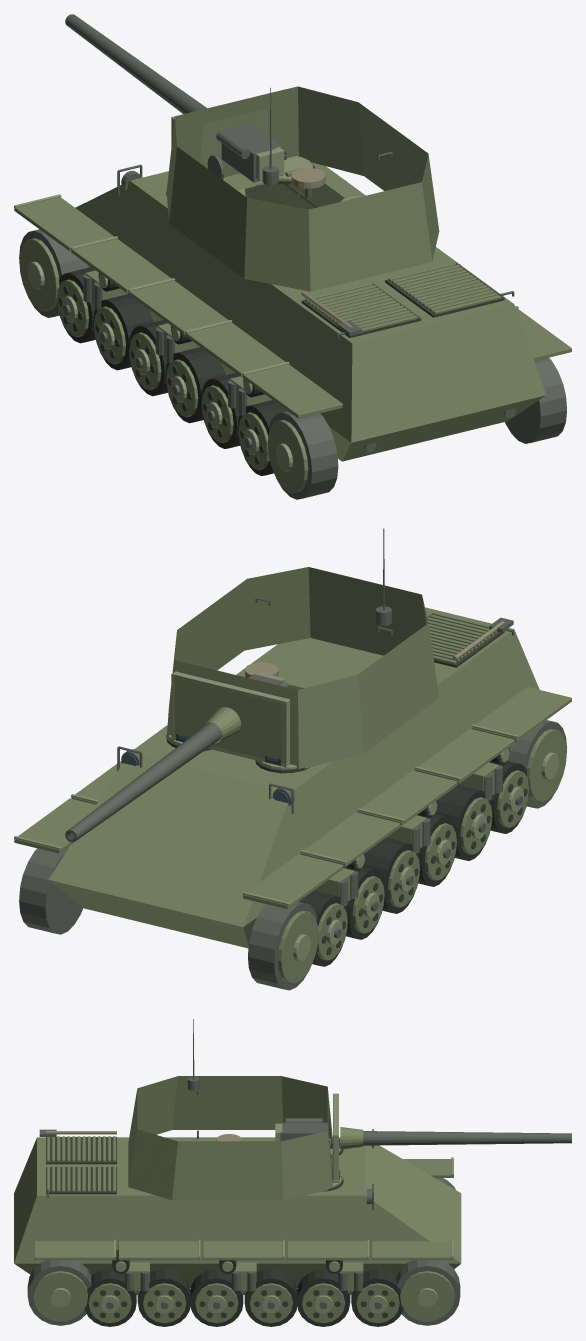
3 views of the same model, one above another, from view 1: azimuth 30°, elevation 25°; view 2: azimuth 150°, elevation 25°; view 3: azimuth 270°, elevation 25° (orthographic). The views are drawn at different scales.
Visible parts, largest first — view 1: Cosmetic_hull_Olive, Armor_hull_1_6, Armor_turret_wall_4, Cosmetic_hull_Steel, Armor_hull_1_5, Armor_hull_1_4, Armor_hull_1_7, Cosmetic_hull_Rubber, Armor_turret_wall_6, Armor_turret_wall_5, Armor_turret_wall_1, Cosmetic_hull_Edge (+18 smaller); view 2: Cosmetic_hull_Olive, Armor_hull_1_0, Armor_hull_1_1, Cosmetic_hull_Steel, Armor_hull_1_6, Armor_turret_wall_4, Armor_hull_1_7, Armor_turret_wall_6, Cosmetic_hull_Rubber, Armor_turret_wall_7, Armor_turret_wall_3, Cosmetic_hull_Edge (+18 smaller); view 3: Cosmetic_hull_Olive, Armor_hull_1_3, Armor_hull_1_2, Cosmetic_hull_Rubber, Armor_turret_wall_2, Armor_turret_wall_6, Cosmetic_hull_Steel, Cosmetic_hull_Dark, Armor_hull_1_0, Cosmetic_hull_Edge, Armor_turret_wall_1, Armor_hull_1_1 (+16 smaller).
Boxes of the visible parts, bbox=[...] form: Cosmetic_hull_Olive: bbox=[14, 167, 571, 493]; Armor_hull_1_6: bbox=[201, 254, 352, 442]; Armor_turret_wall_4: bbox=[308, 182, 432, 291]; Cosmetic_hull_Steel: bbox=[19, 154, 566, 499]; Armor_hull_1_5: bbox=[351, 324, 448, 442]; Armor_hull_1_4: bbox=[433, 304, 545, 418]; Armor_hull_1_7: bbox=[75, 180, 209, 299]; Cosmetic_hull_Rubber: bbox=[57, 267, 286, 475]; Armor_turret_wall_6: bbox=[169, 146, 246, 278]; Armor_turret_wall_5: bbox=[244, 198, 310, 291]; Armor_turret_wall_1: bbox=[298, 86, 363, 175]; Cosmetic_hull_Edge: bbox=[14, 156, 518, 471]; Cosmetic_hull_Olive: bbox=[14, 612, 571, 983]; Armor_hull_1_0: bbox=[146, 772, 287, 926]; Armor_hull_1_1: bbox=[48, 755, 210, 903]; Cosmetic_hull_Steel: bbox=[19, 617, 566, 990]; Armor_hull_1_6: bbox=[376, 629, 539, 790]; Armor_turret_wall_4: bbox=[308, 567, 426, 655]; Armor_hull_1_7: bbox=[243, 744, 384, 926]; Armor_turret_wall_6: bbox=[358, 623, 439, 752]; Cosmetic_hull_Rubber: bbox=[299, 748, 528, 966]; Armor_turret_wall_7: bbox=[298, 674, 363, 768]; Armor_turret_wall_3: bbox=[244, 567, 310, 650]; Cosmetic_hull_Edge: bbox=[14, 669, 558, 962]; Cosmetic_hull_Olive: bbox=[33, 1136, 454, 1323]; Armor_hull_1_3: bbox=[14, 1195, 243, 1263]; Armor_hull_1_2: bbox=[244, 1195, 460, 1263]; Cosmetic_hull_Rubber: bbox=[84, 1249, 403, 1326]; Armor_turret_wall_2: bbox=[172, 1141, 283, 1200]; Armor_turret_wall_6: bbox=[172, 1076, 282, 1129]; Cosmetic_hull_Steel: bbox=[27, 1129, 460, 1325]; Cosmetic_hull_Dark: bbox=[46, 1137, 395, 1318]; Armor_hull_1_0: bbox=[365, 1145, 461, 1227]; Cosmetic_hull_Edge: bbox=[50, 1138, 453, 1313]; Armor_turret_wall_1: bbox=[281, 1131, 332, 1200]; Armor_hull_1_1: bbox=[365, 1167, 461, 1262].
Size of the model in its own units: 3.16 by 3.59 by 7.52.
